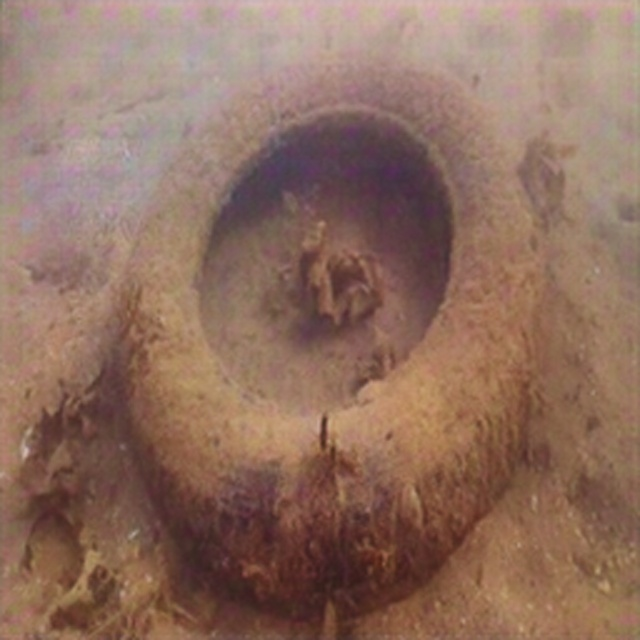mine: (117, 47, 544, 621)
